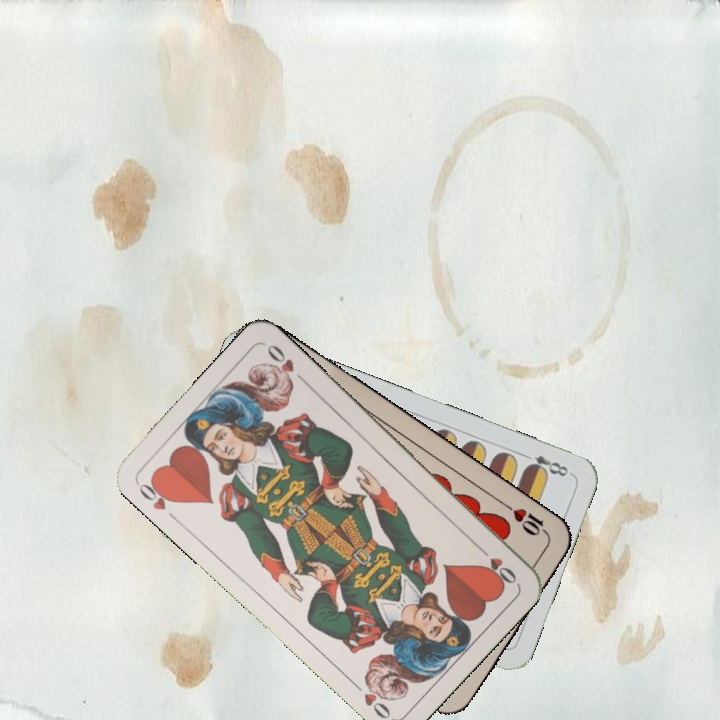E8: (517, 449, 571, 479)
H10: (500, 500, 552, 540)
HO: (473, 541, 519, 587), (133, 473, 180, 513)
